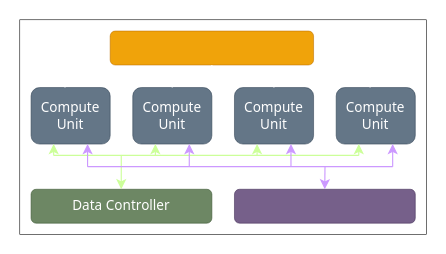
This 446x254 diagram has some shape labels left out. Here are the shapes that lost their labels. From the top down, the centre of each, then its label:
At [211,47]: "Dispatcher".
At [324,205]: "Instruction Controller".
